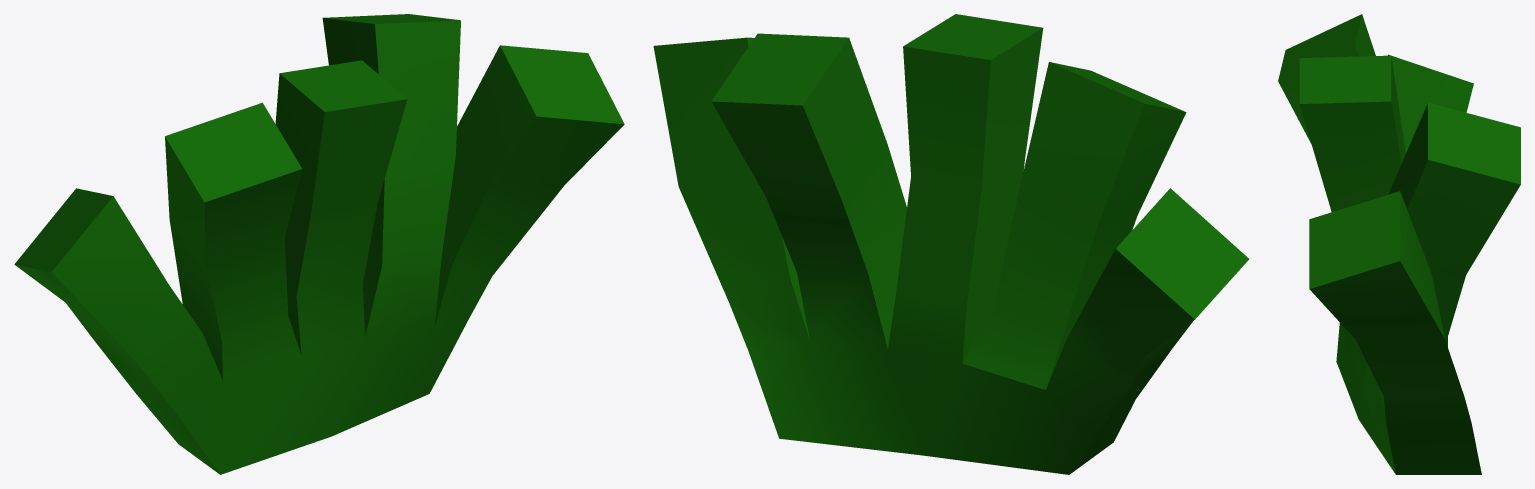
File: SM_Grass_4.FBX
The picture shows the model from 3 angles, left to right: view 1: azimuth 30°, elevation 25°; view 2: azimuth 150°, elevation 25°; view 3: azimuth 270°, elevation 25°; orthographic projection. The views are drawn at different scales.
Parts seen in each view (by area): view 1: 4; view 2: 4; view 3: 4.
Part boxes in pixels (left/top/right/bottom): 4: left=14, top=14, right=624, bottom=474; 4: left=653, top=14, right=1248, bottom=474; 4: left=1278, top=14, right=1520, bottom=474.
Size of the model in its own units: 13.4 by 8.56 by 5.31.
